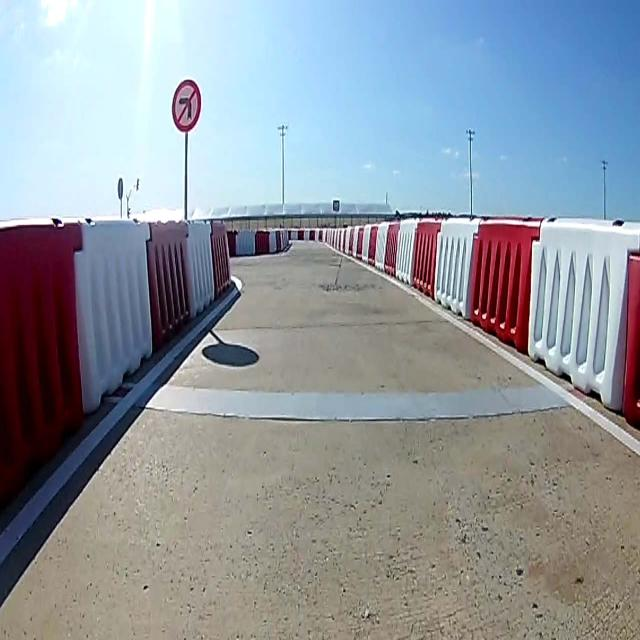soladonulmez: (172, 78, 203, 134)
